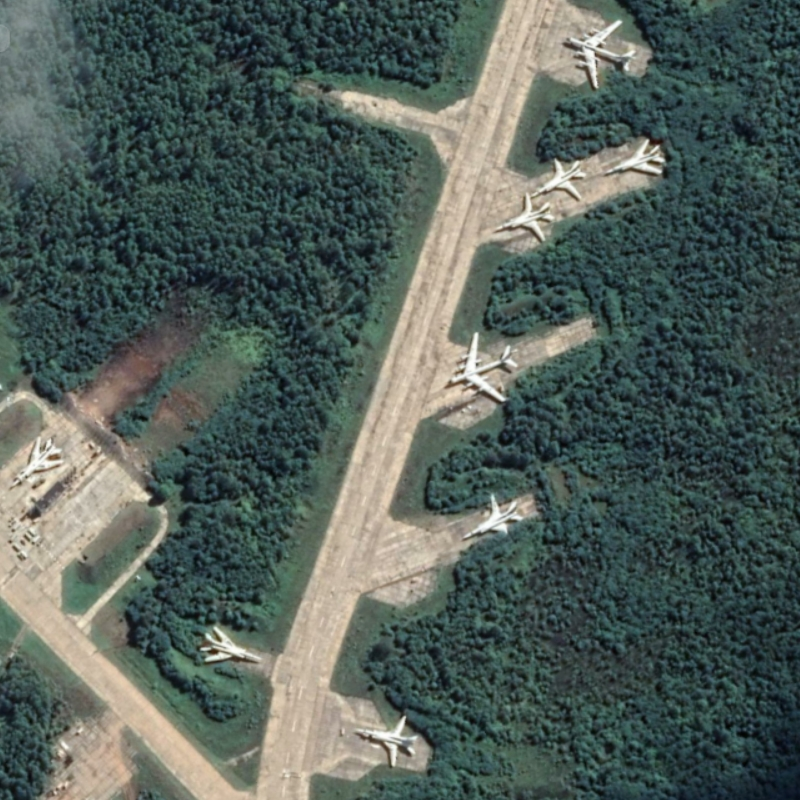A12: (351, 710, 419, 769), (6, 432, 68, 491), (489, 190, 557, 243), (458, 488, 526, 539), (599, 136, 669, 182), (197, 623, 267, 669), (529, 155, 591, 205)
A17: (443, 328, 520, 405), (561, 18, 641, 92)
